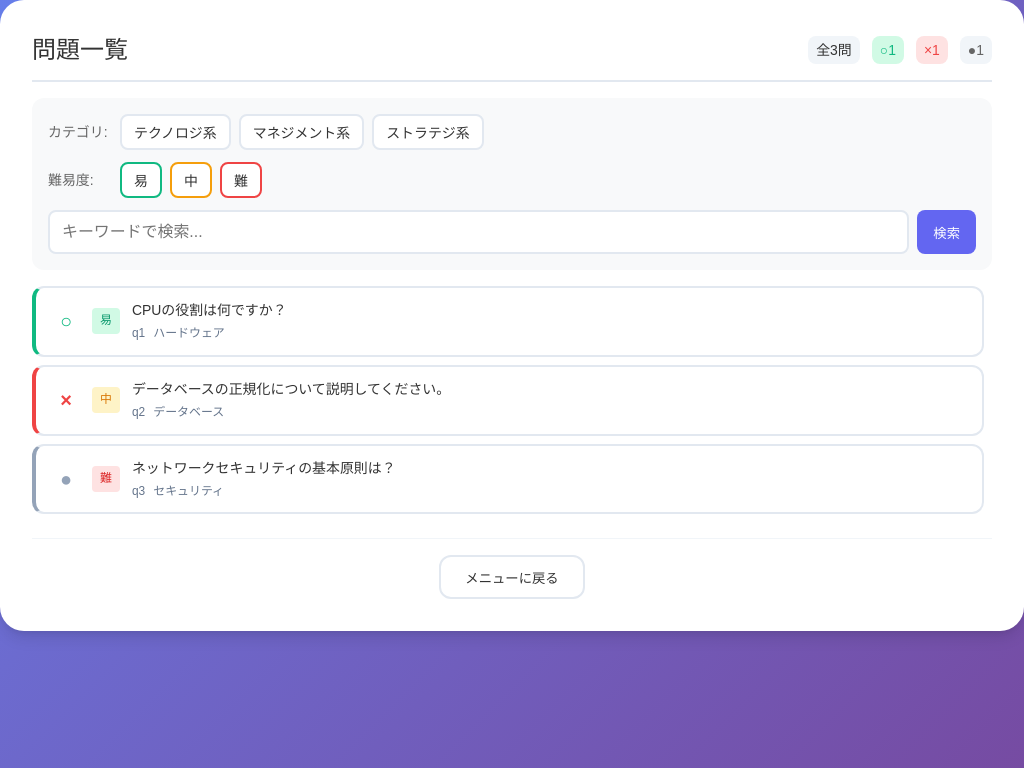
QuestionList › search filter › should search by subcategory
Expected: the text "CPUの役割は何ですか？" is shown, [132, 302, 287, 318]
In the field with placeholder "キーワードで検索...": (479, 232) [48, 210, 909, 254], type "セキュリティ"
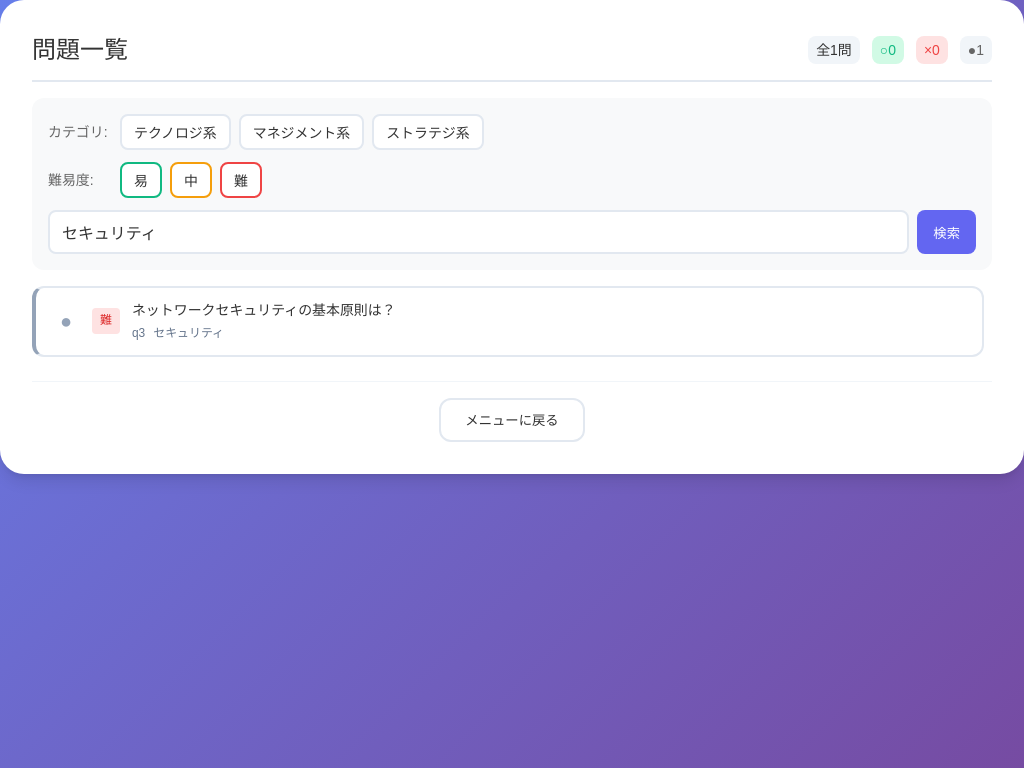
Expected: the text "ネットワークセキュリティの基本原則は？" is shown, [132, 302, 396, 318]
Result: the button "CPUの役割は何ですか？" is gone
